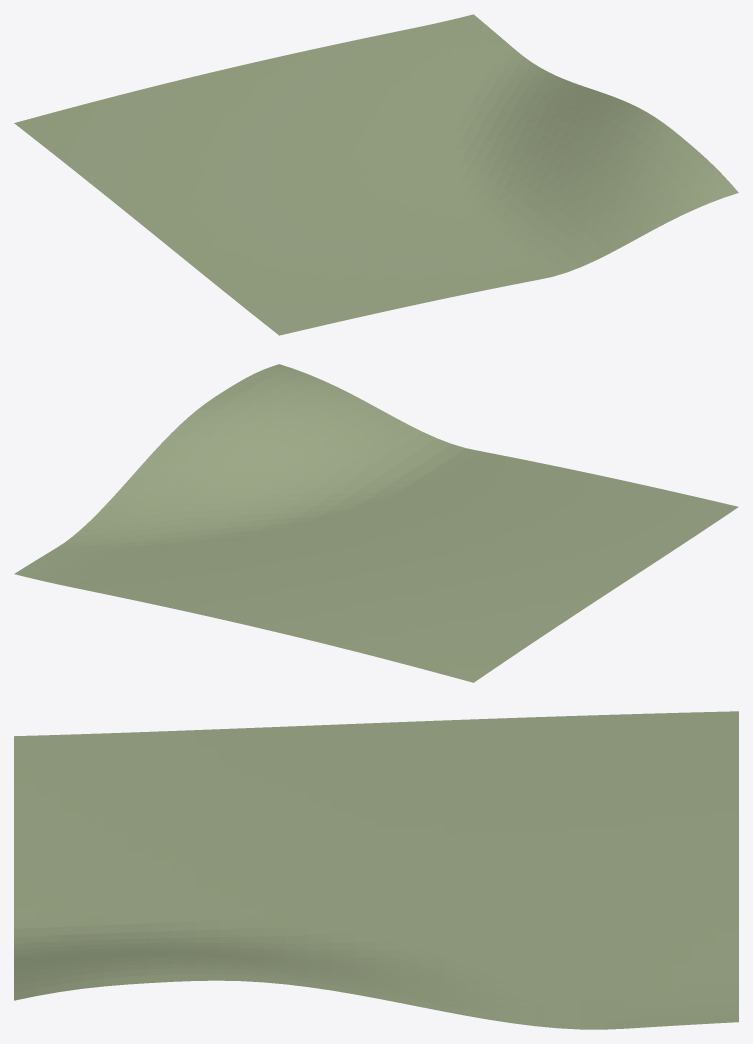
File: desert-21-8.glb
3 renders of one model, top to bottom at view 1: azimuth 30°, elevation 25°; view 2: azimuth 150°, elevation 25°; view 3: azimuth 270°, elevation 25°, orthographic. The views are drawn at different scales.
Parts seen in each view (by area): view 1: desert-21-8; view 2: desert-21-8; view 3: desert-21-8.
Part boxes in pixels (bbox=[...]): desert-21-8: bbox=[14, 14, 738, 335]; desert-21-8: bbox=[14, 364, 738, 682]; desert-21-8: bbox=[14, 711, 738, 1029].
Size of the model in its own units: 512 by 56.61 by 512.
